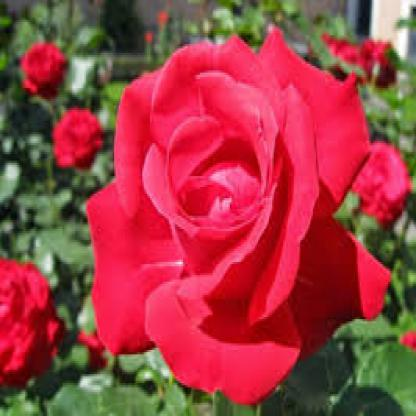Rose-Mawar: (83, 32, 416, 388), (12, 36, 107, 173), (1, 243, 65, 391)
